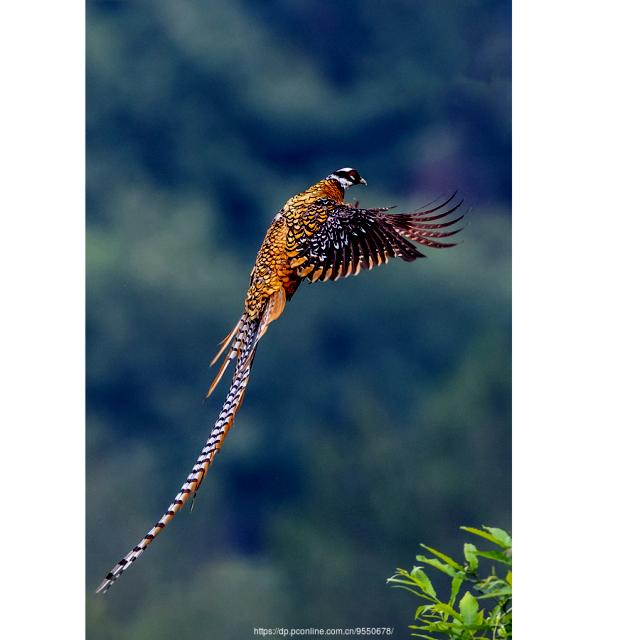Reeves-s Pheasant: (97, 287, 287, 593)
